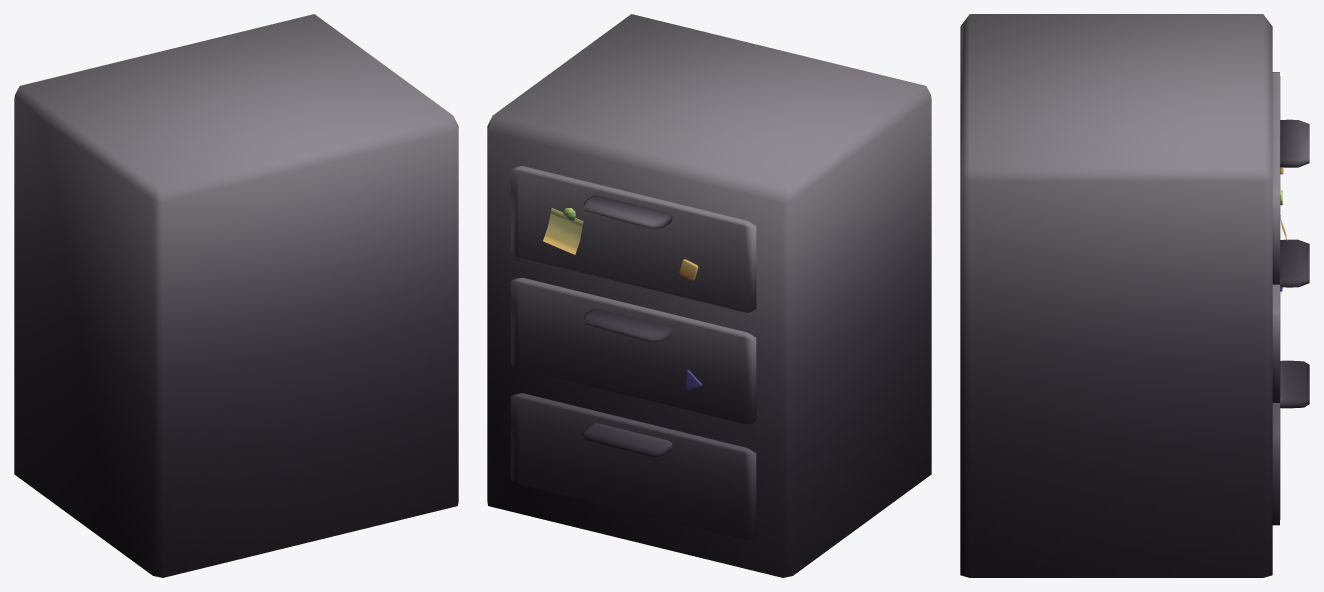
File: mesh_cabinet_w_magnets_LOD1.fbx
The picture shows the model from 3 angles, left to right: view 1: azimuth 30°, elevation 25°; view 2: azimuth 150°, elevation 25°; view 3: azimuth 270°, elevation 25°; orthographic projection. The views are drawn at different scales.
Visible parts, largest first — view 1: cabinet_w_magnets_LOD1; view 2: cabinet_w_magnets_LOD1; view 3: cabinet_w_magnets_LOD1.
Part boxes in pixels (box(x1,y1,x2,y2)): cabinet_w_magnets_LOD1: box(14, 14, 458, 577); cabinet_w_magnets_LOD1: box(487, 14, 931, 577); cabinet_w_magnets_LOD1: box(960, 14, 1309, 577).
Size of the model in its own units: 114 by 137 by 106.
